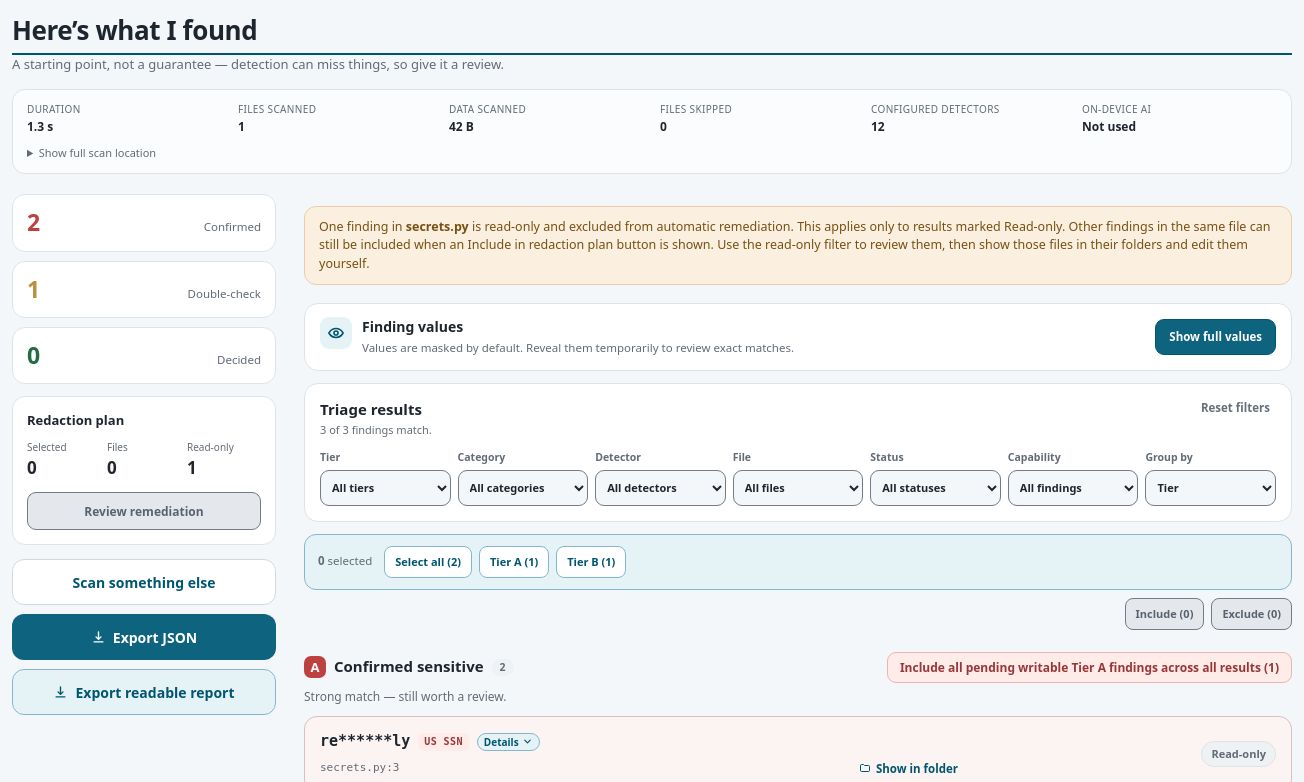
ResultsScreen › applies one exact-scope bulk inclusion to selected visible findings
Expected: the button "Include all pending writable Tier A findings across all results (1)" is shown, [887,652,1292,683]
Click the button "Select all (2)" at (428, 562), box [384,546,472,578]
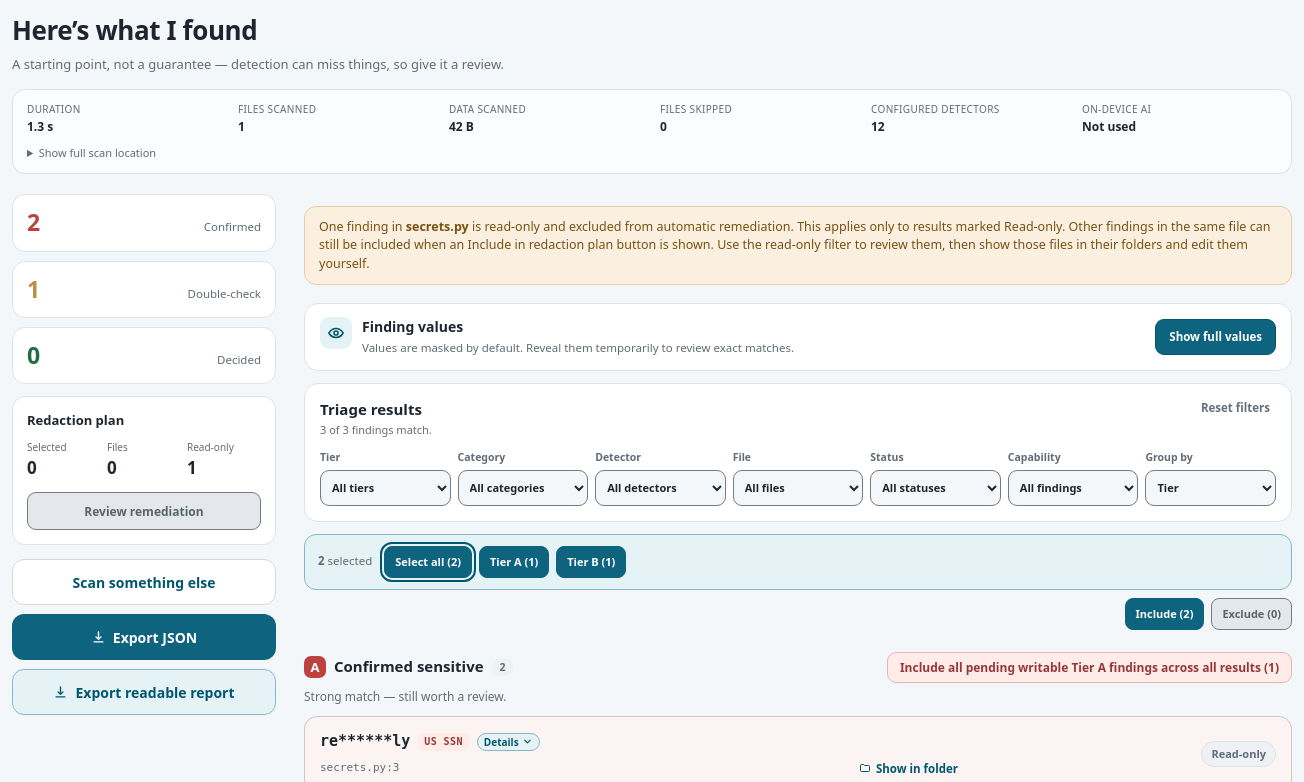
Click the button "Include (2)" at (1164, 614), box [1124,598,1204,630]
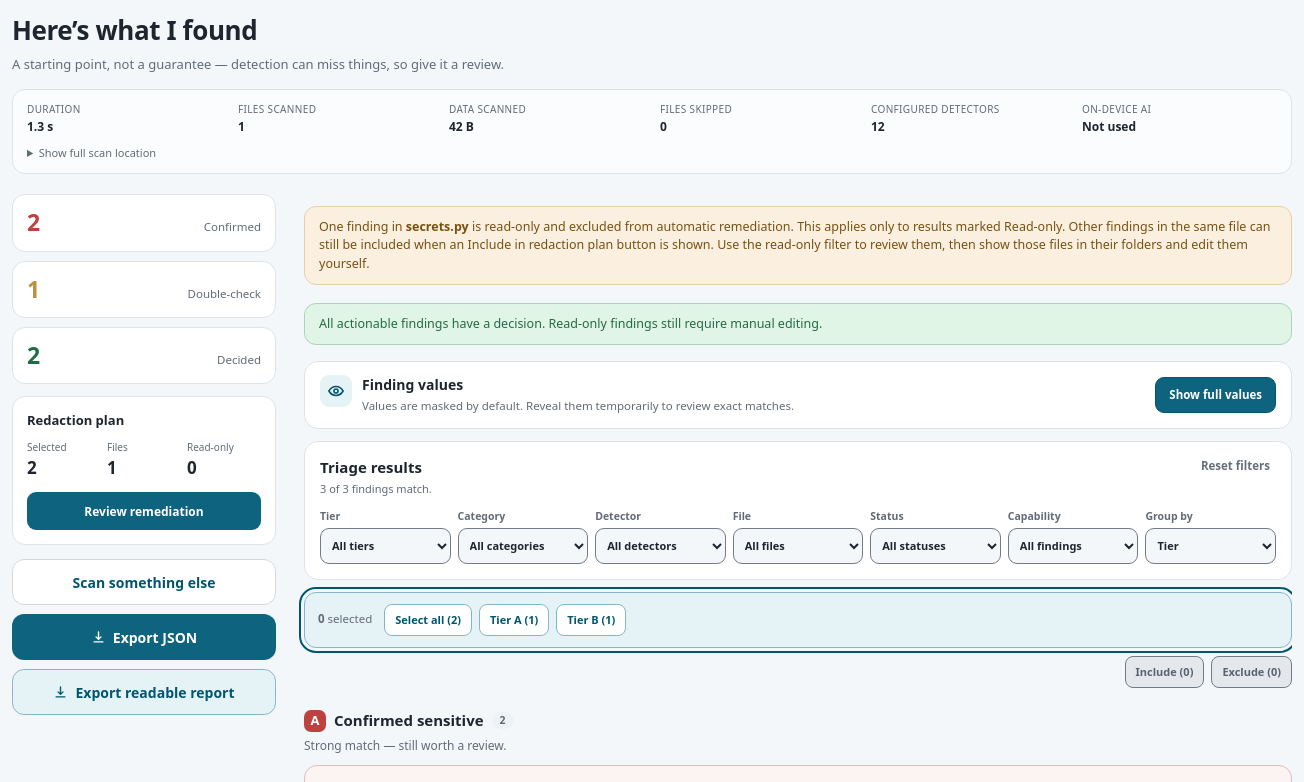
Expected: the button "Include (0)" is disabled, [1124,656,1204,688]
